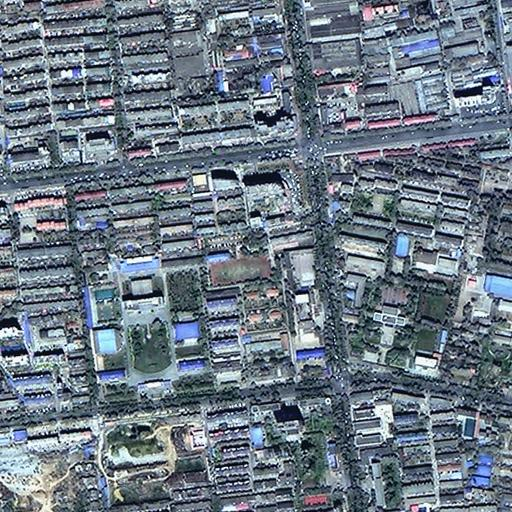school: (205, 226, 320, 293)
